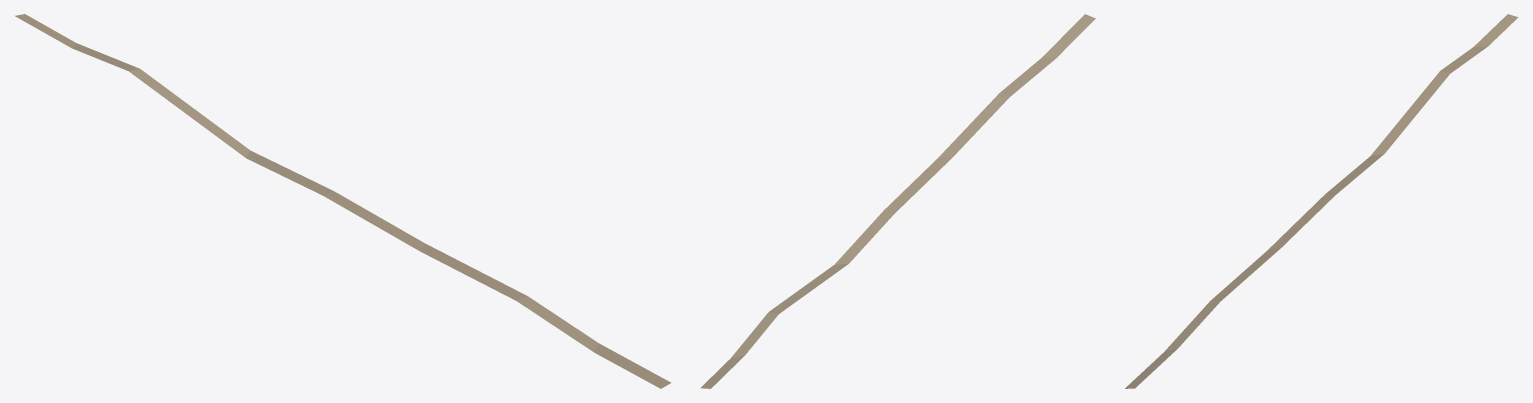
File: farm_-21_-26_track.glb
The picture shows the model from 3 angles, left to right: view 1: azimuth 30°, elevation 25°; view 2: azimuth 150°, elevation 25°; view 3: azimuth 330°, elevation 25°; orthographic projection. The views are drawn at different scales.
Visible parts, largest first — view 1: geometry_0; view 2: geometry_0; view 3: geometry_0.
Boxes of the visible parts, bbox=[...] form: geometry_0: bbox=[15, 14, 671, 388]; geometry_0: bbox=[700, 14, 1095, 388]; geometry_0: bbox=[1125, 14, 1518, 388].
Size of the model in its own units: 33.47 by 5.39 by 267.
